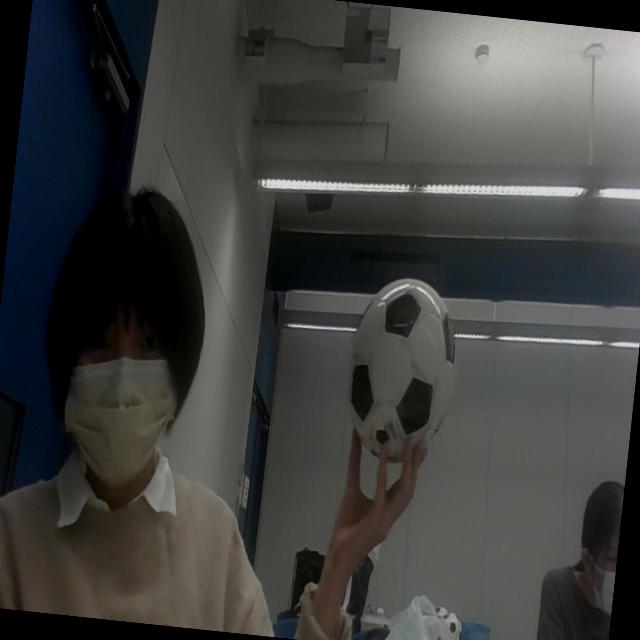Soccer Ball: (343, 273, 460, 466)
